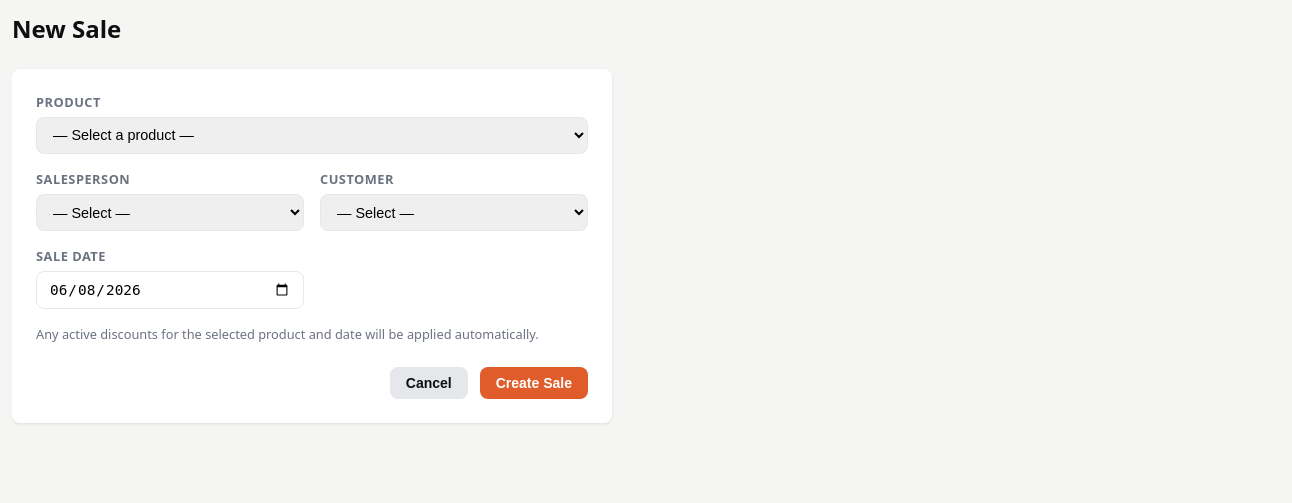
it: shows validation error when submitting with empty fields
Click the button "Create Sale" at (534, 383), box 480,367 -> 588,399
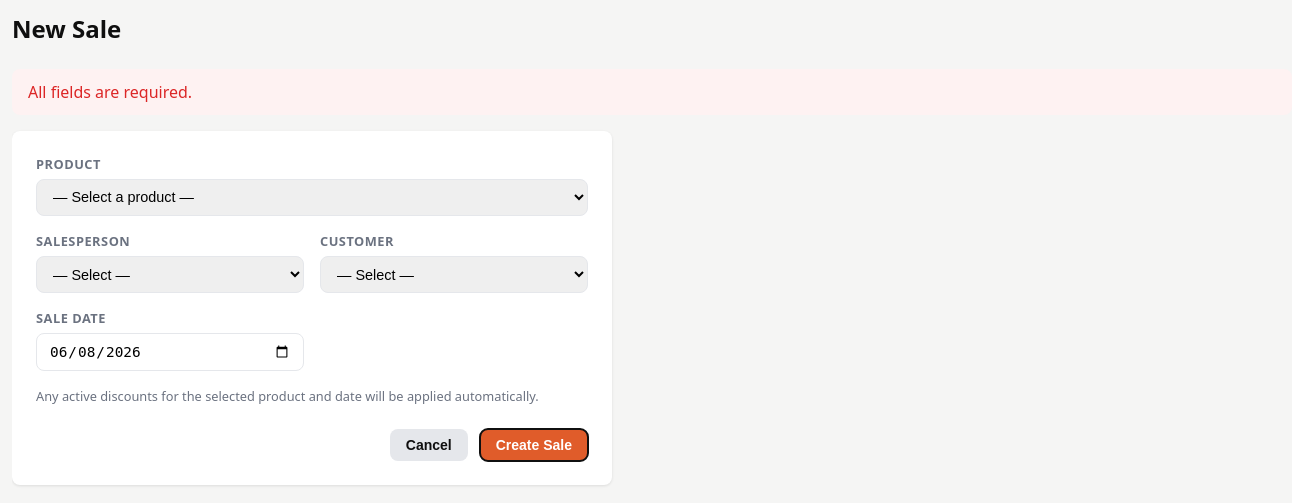
Expected: the text "All fields are required." is shown, 12,69 -> 1291,115
